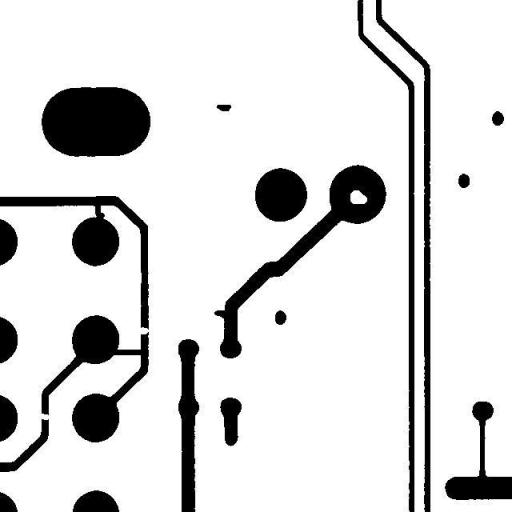copper: (210, 98, 237, 117)
open: (130, 322, 154, 339), (34, 408, 54, 425)
pin-hole: (346, 186, 370, 208)
short: (106, 344, 148, 360), (90, 198, 110, 224)
spur: (208, 305, 233, 324)
